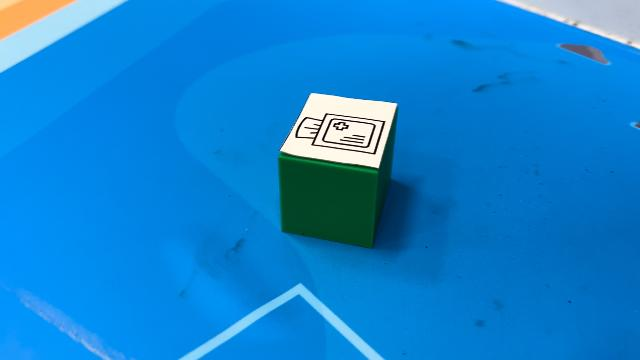napkin: (282, 92, 402, 248)
